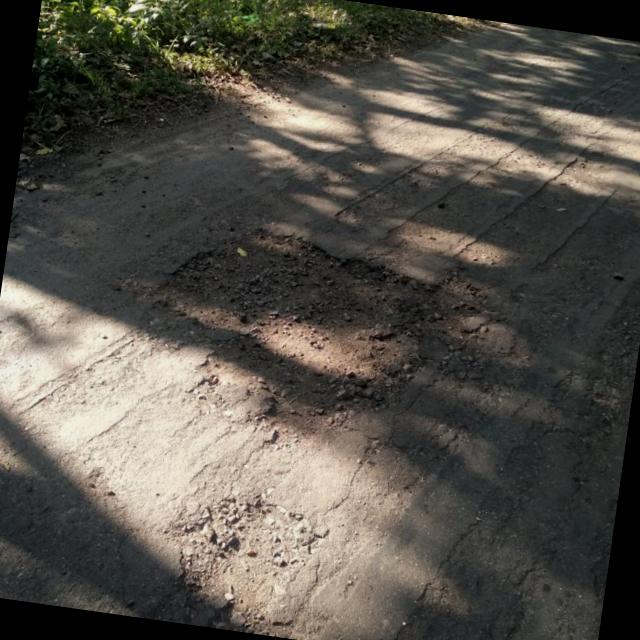Lubang: (141, 228, 487, 443), (181, 498, 328, 638)
